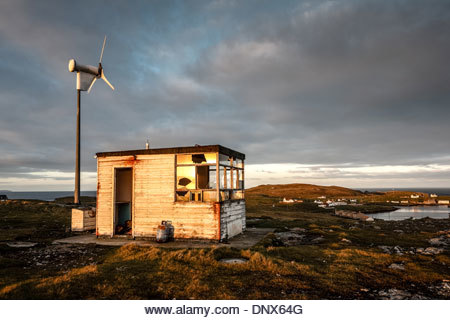faulty: (67, 40, 119, 92)
